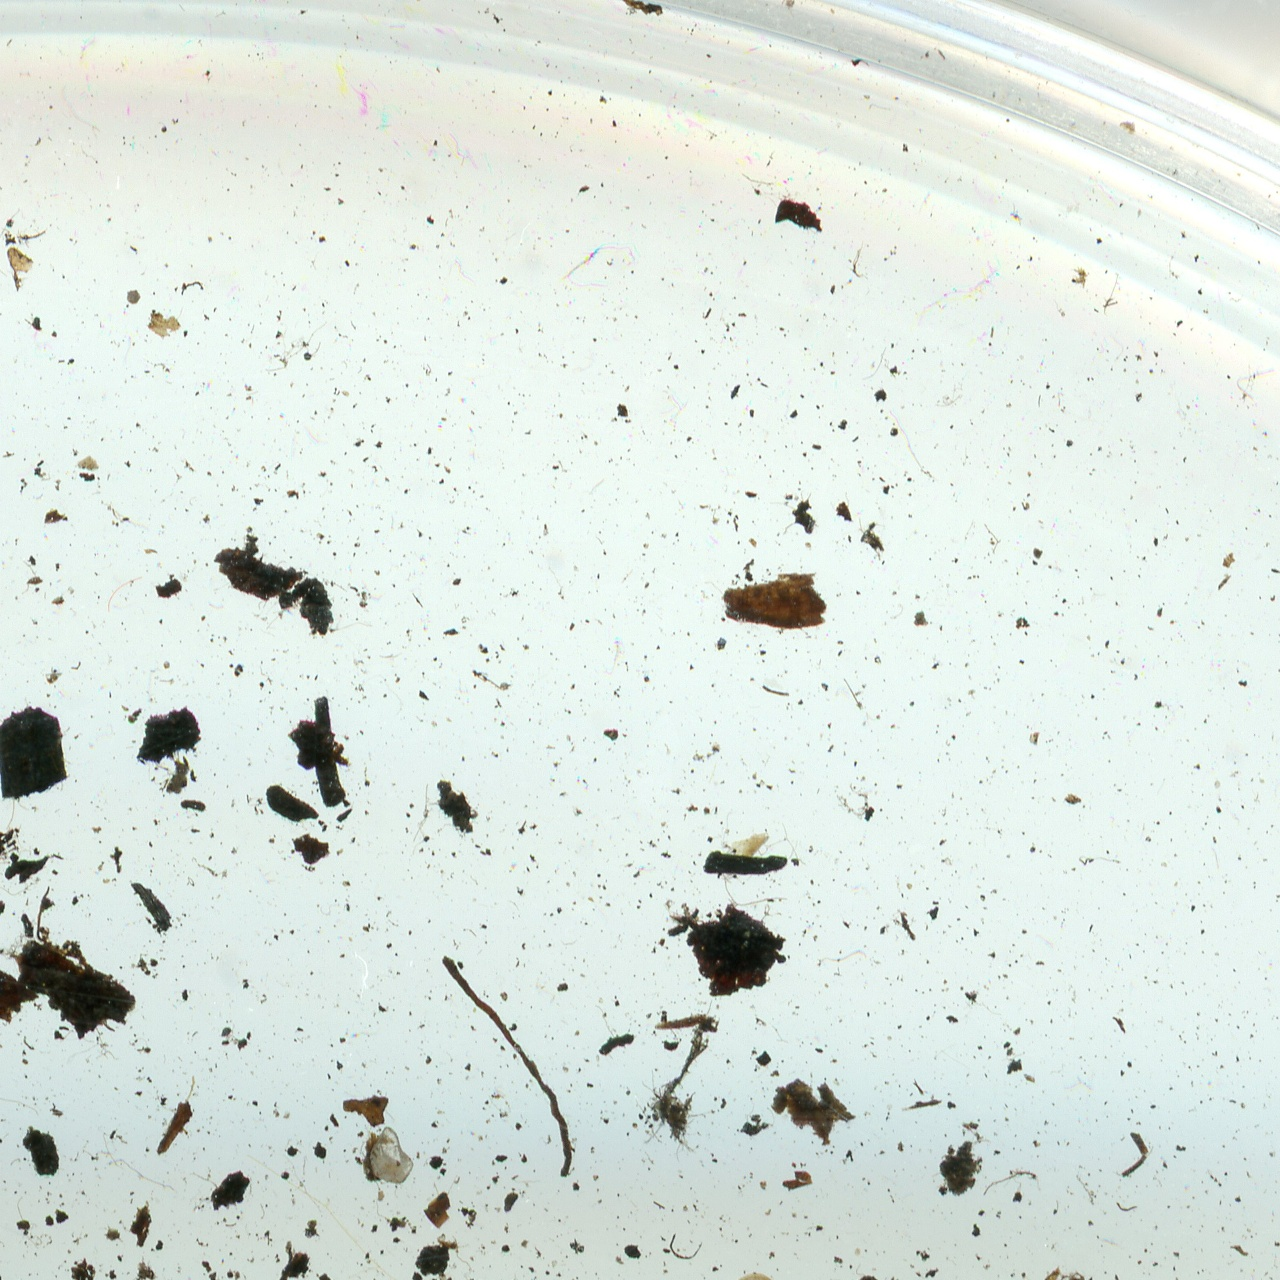arthropod: (1047, 1260, 1117, 1280)
